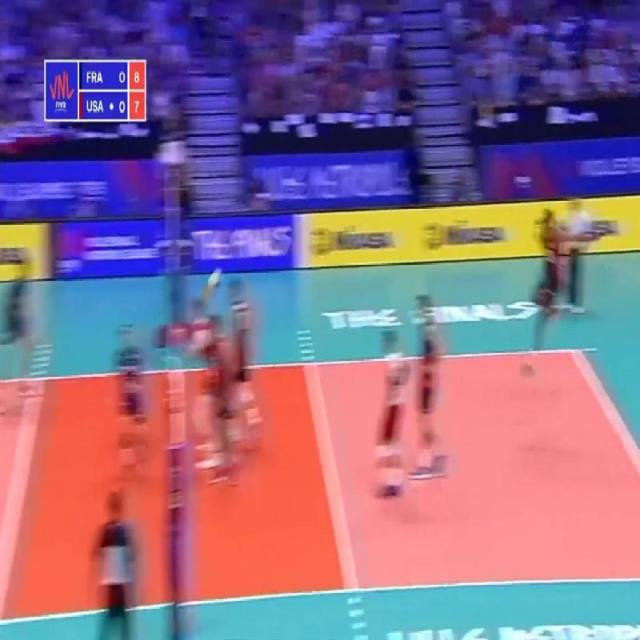volleyball: (210, 268, 222, 290)
